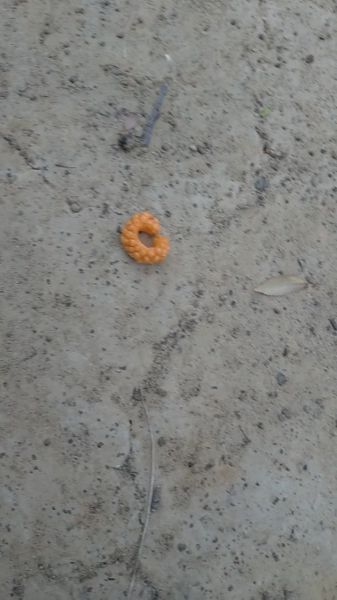eggs: (121, 204, 169, 268)
